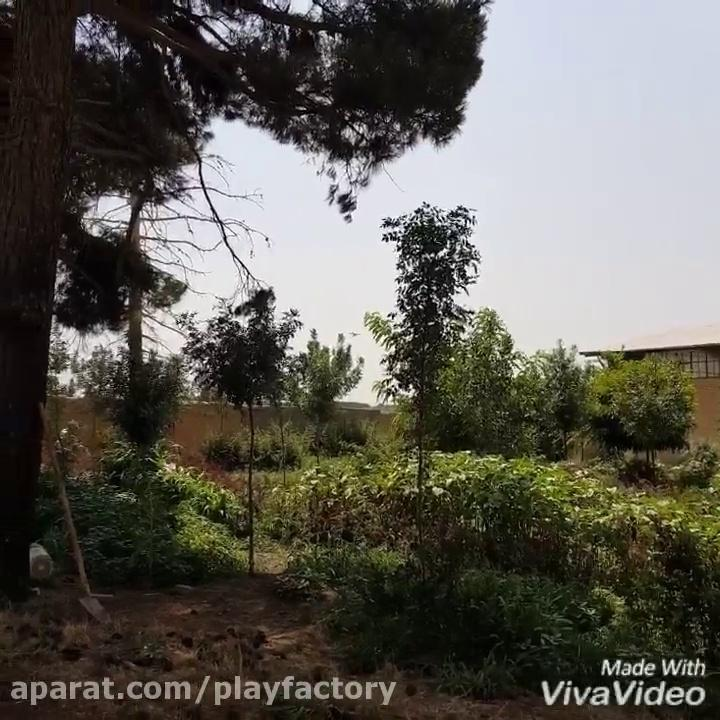drone: (345, 325, 365, 339)
